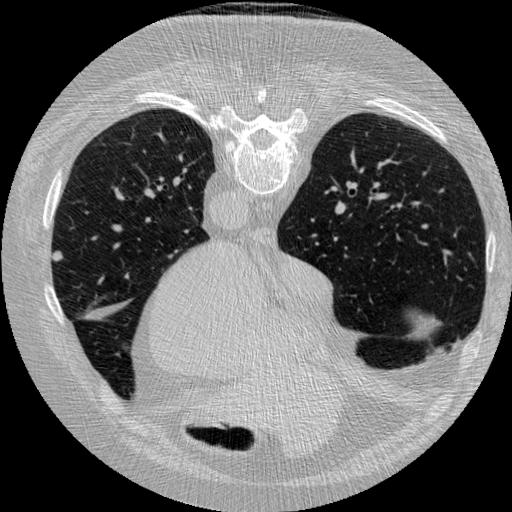nodule: (51, 249, 67, 265)
